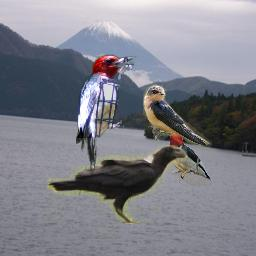Crow: (47, 145, 188, 224)
Swallow: (143, 82, 213, 149)
Woodpecker: (76, 54, 138, 174), (166, 125, 214, 186)
